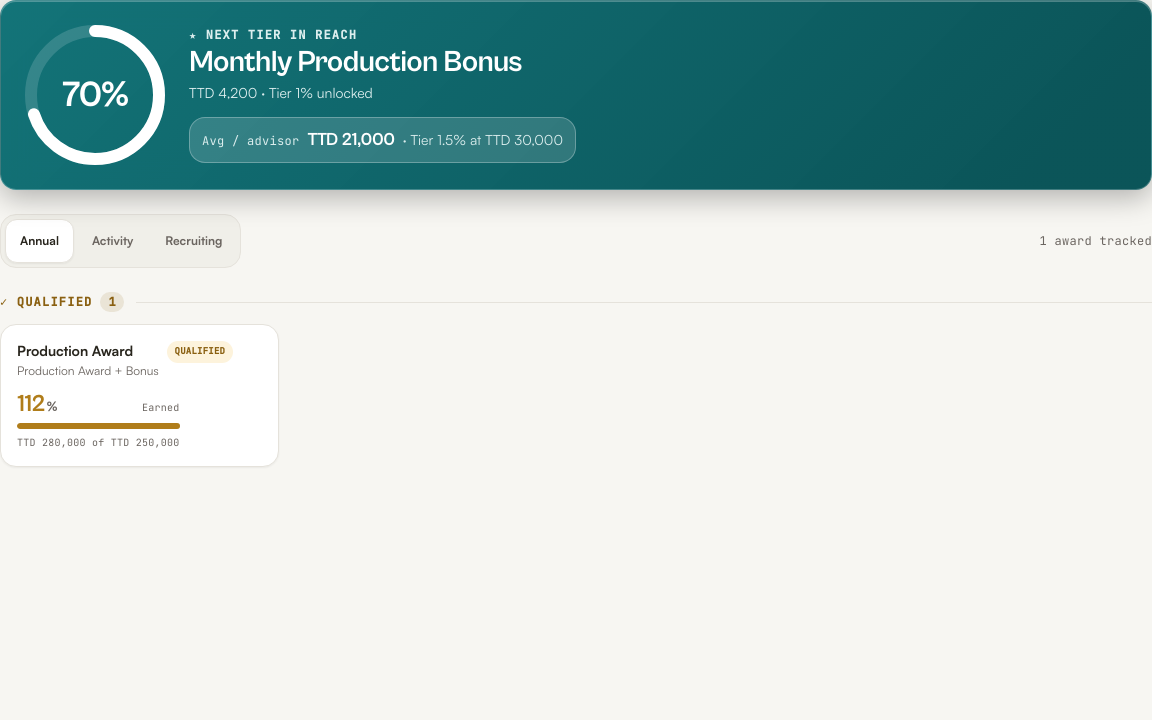
it: ManagerAwardsPanel — drill drawer › opens the AwardDrillDrawer when an AwardCard is clicked + closes on Escape
Click the button with test id "award-card-production_award".
click(75, 350)  # box [0,324,279,466]
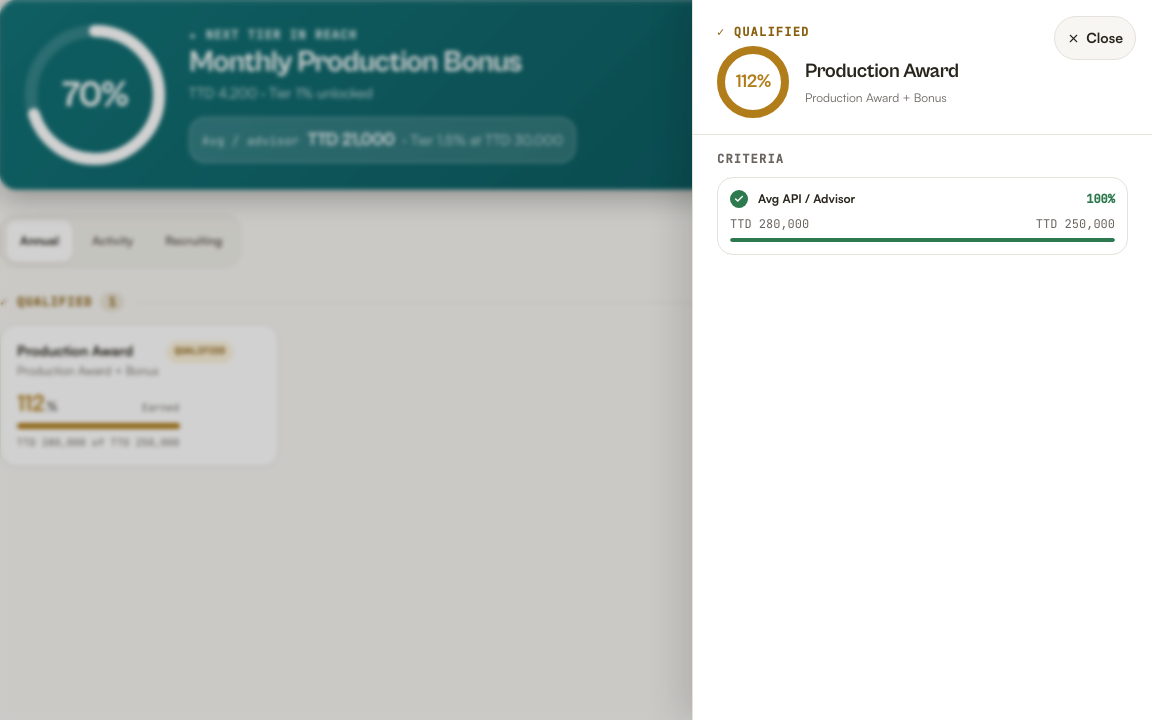
Expected: the dialog with test id "award-drill-drawer" is shown, [692,0,1151,719]
Expected: the dialog with test id "award-drill-drawer" shows "Criteria", [717,151,784,167]
Expected: the dialog with test id "award-drill-drawer" shows "Avg API / Advisor", [758,191,855,206]
Press Escape
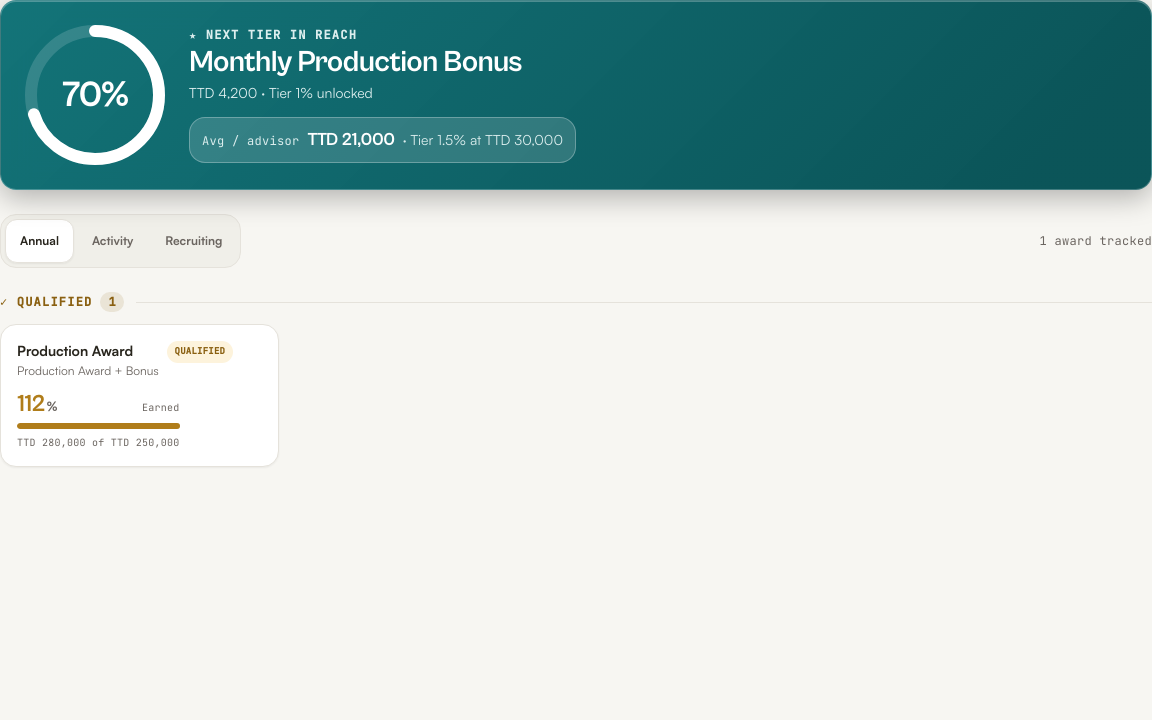
Expected: the dialog with test id "award-drill-drawer" is gone
